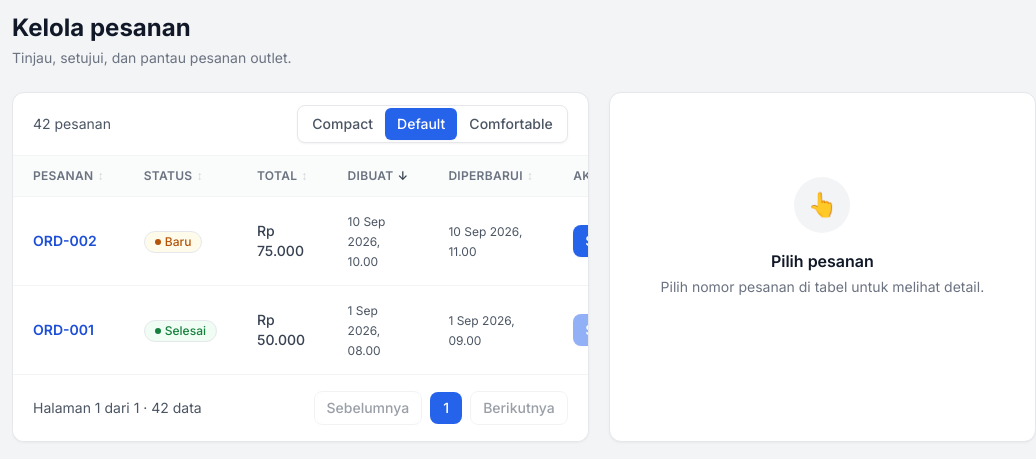
Test: default sort + summary + timestamp columns › loads the order detail on row click (show logic unchanged)
Click the button "ORD-002" at (65,241), box [33,231,97,251]
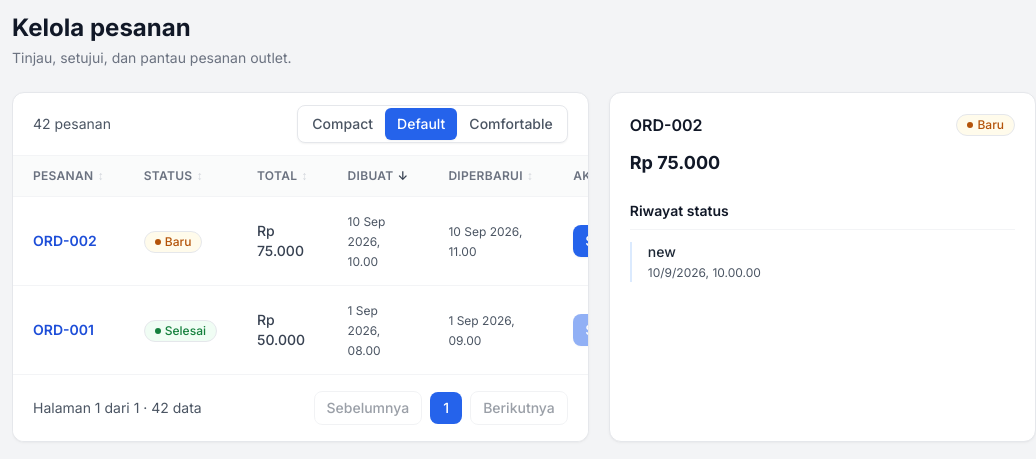
Result: the heading "Riwayat status" is shown at [630,201,1015,230]
